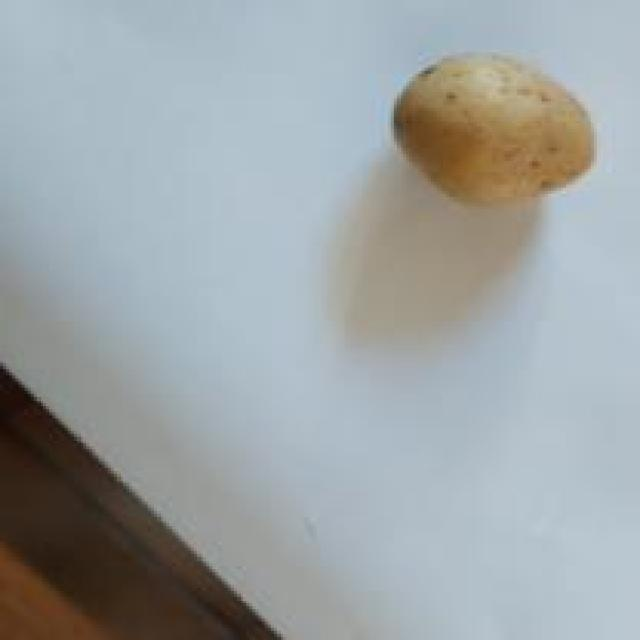potato: (380, 45, 602, 214)
